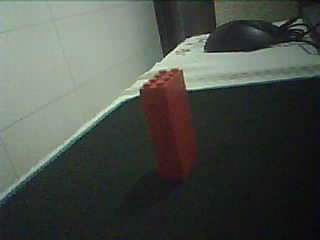lego: (139, 67, 197, 179)
